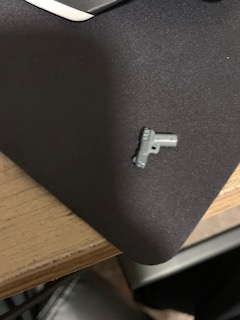pistol: (130, 124, 180, 170)
